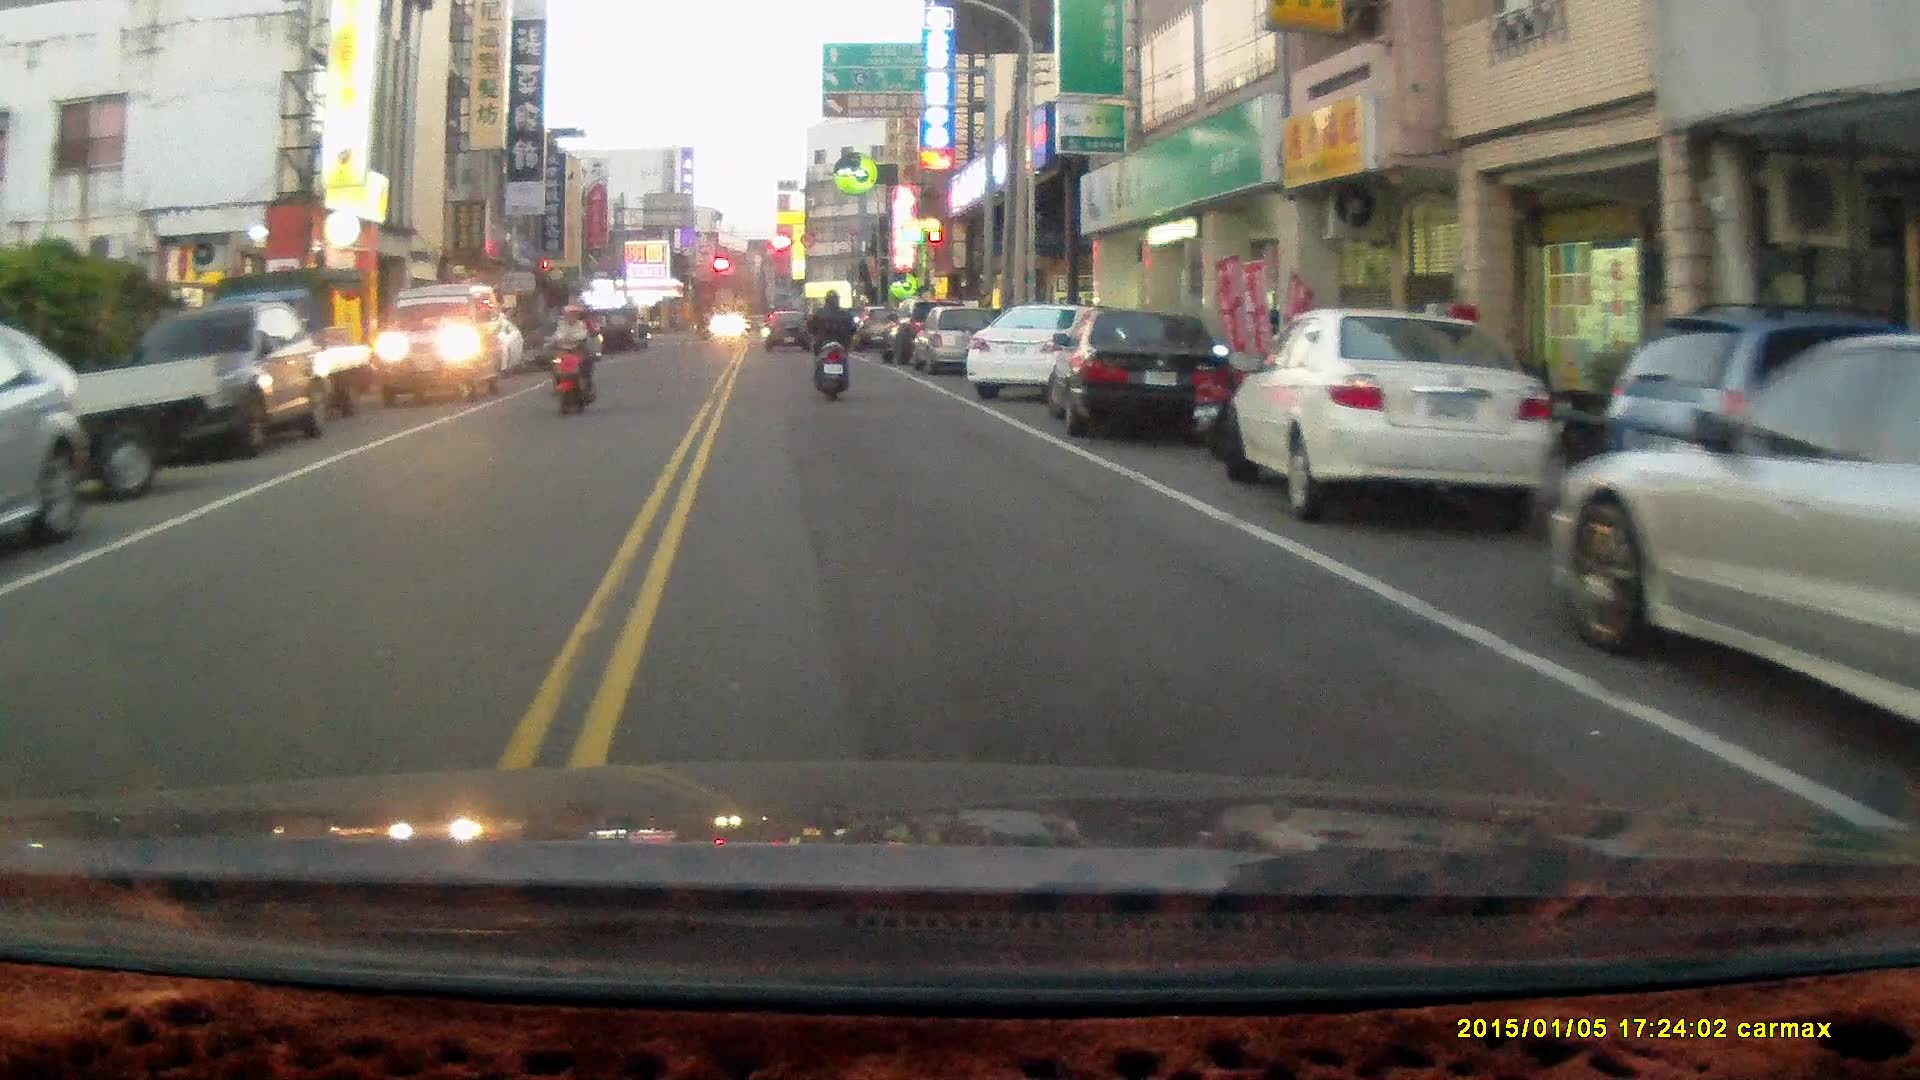rider: (553, 290, 603, 414), (807, 287, 853, 405)
vehicle: (1547, 334, 1920, 765), (1224, 305, 1552, 520), (124, 293, 331, 460), (189, 264, 379, 424), (1047, 304, 1233, 441), (1, 316, 89, 563), (965, 300, 1145, 403), (378, 283, 514, 408), (910, 301, 1014, 378)
